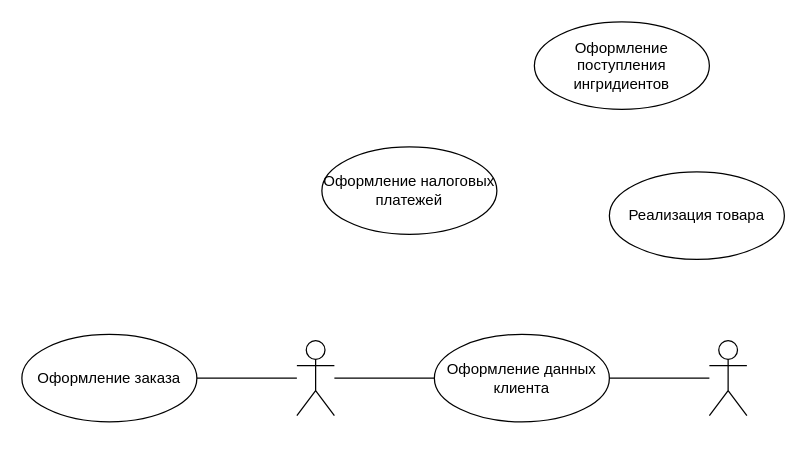
The diagram is 806 pixels wide and 464 high, and some of its shapes have lost their labels. Each missing label, with the centre of its shape:
"Администратор" goes at [727,377].
"Клиент" goes at [315,377].
